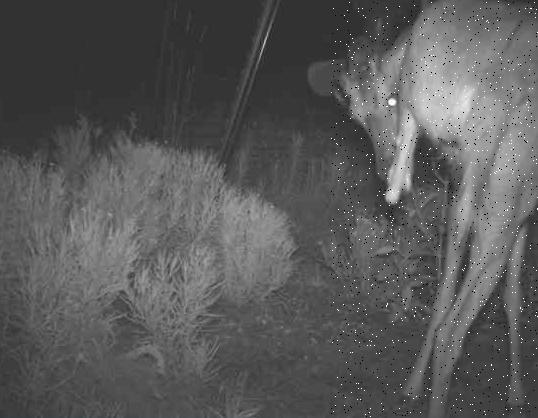Deer: (331, 0, 538, 417)
